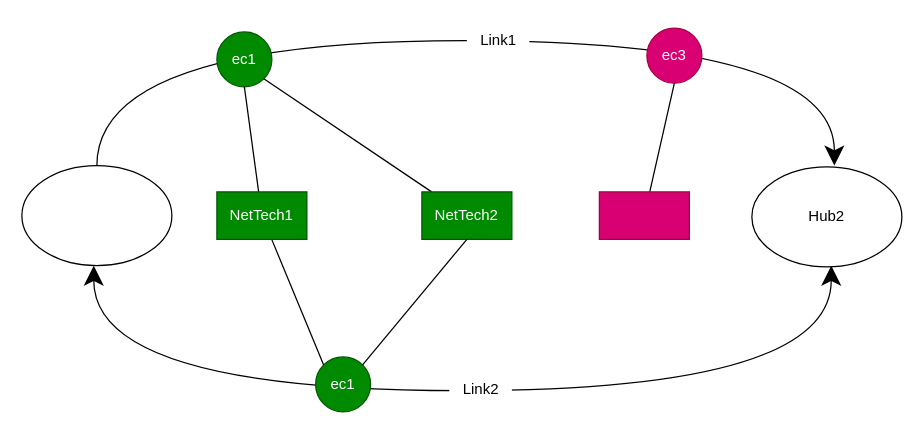
Image size: 924x434. Some labels were removed from this diagram. The centre of each missing label's shape, as x and y in pixels:
"Hub1" belongs at point (96, 215).
"NetTech3" belongs at point (643, 215).
